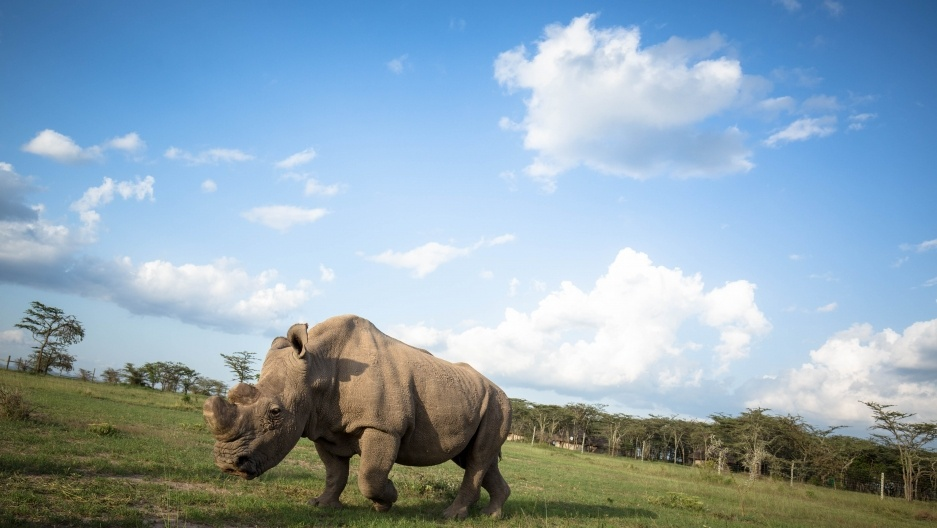rhino: (205, 314, 512, 521)
